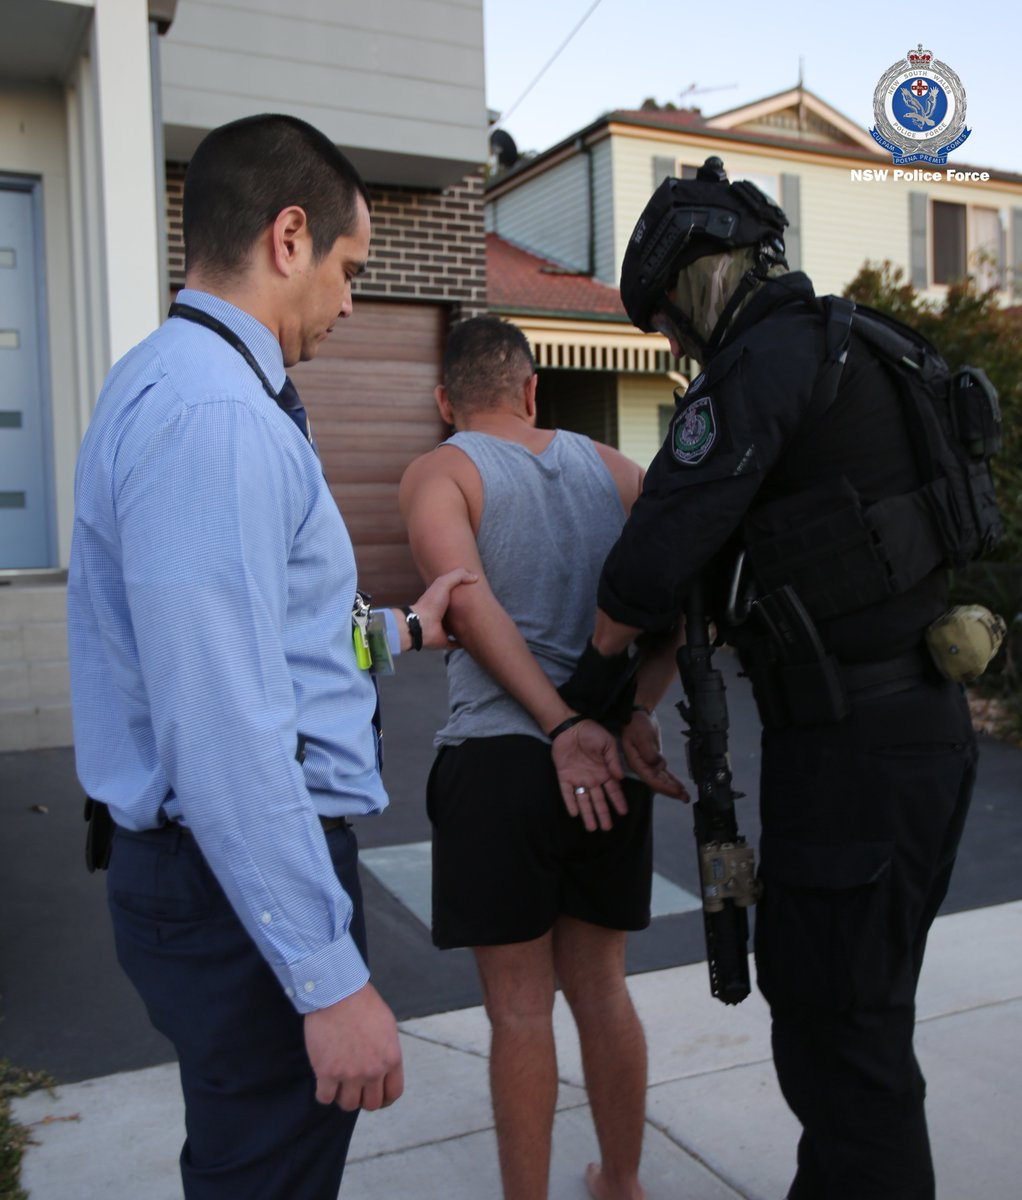Person: (622, 156, 980, 1200), (64, 112, 404, 1200), (401, 314, 654, 1200)
